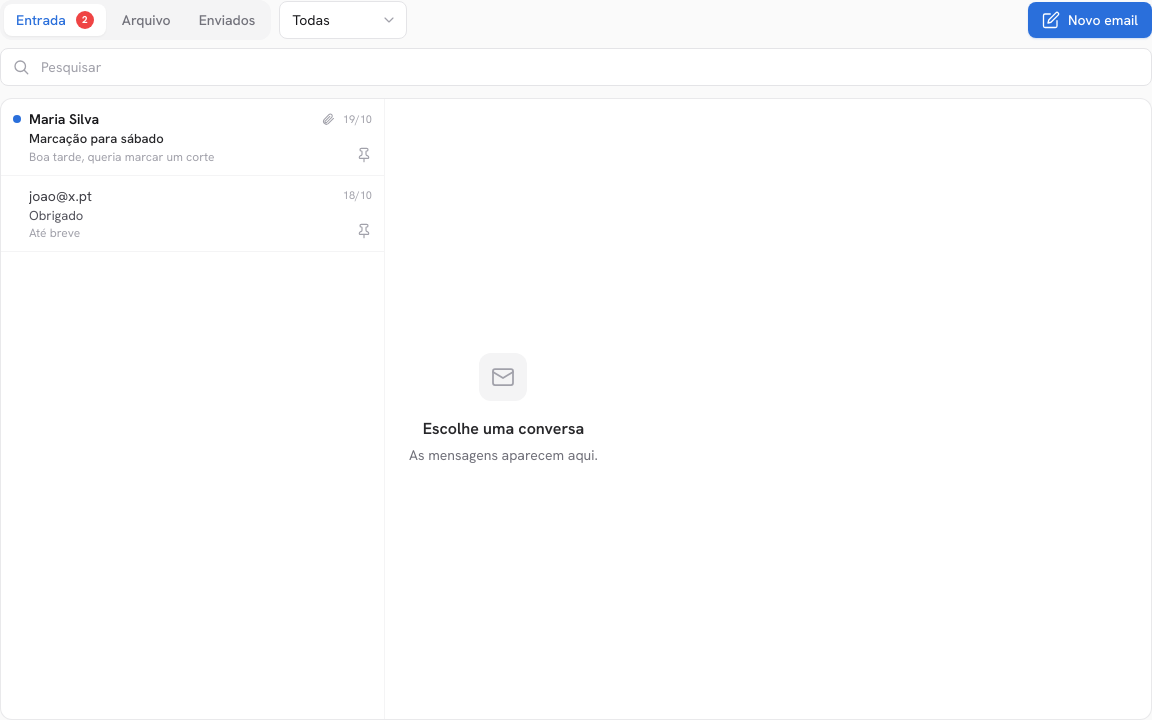
Test: Correio → Caixa — compositor › um endereço inválido bloqueia o envio
Click the button "Novo email". click: {"x": 1090, "y": 20}
box: [1028,2,1151,38]
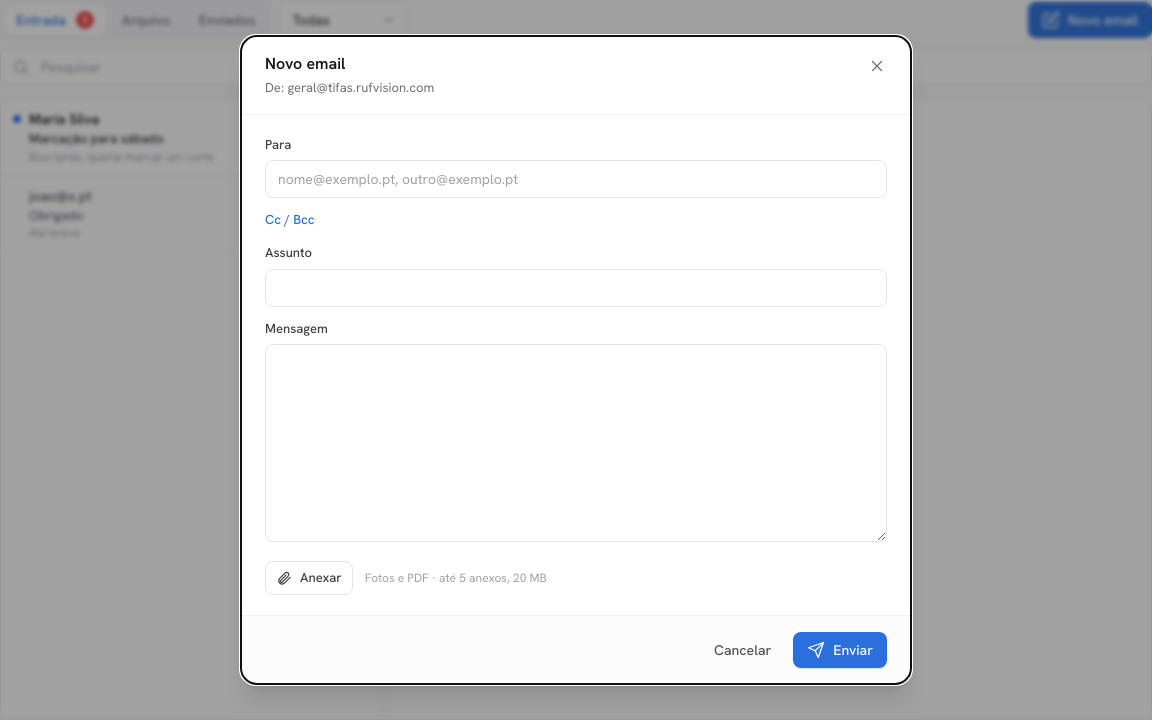
Type "isto-nao-e-email" into the field labelled "Para". click: {"x": 576, "y": 179}
box: [265,160,887,198]
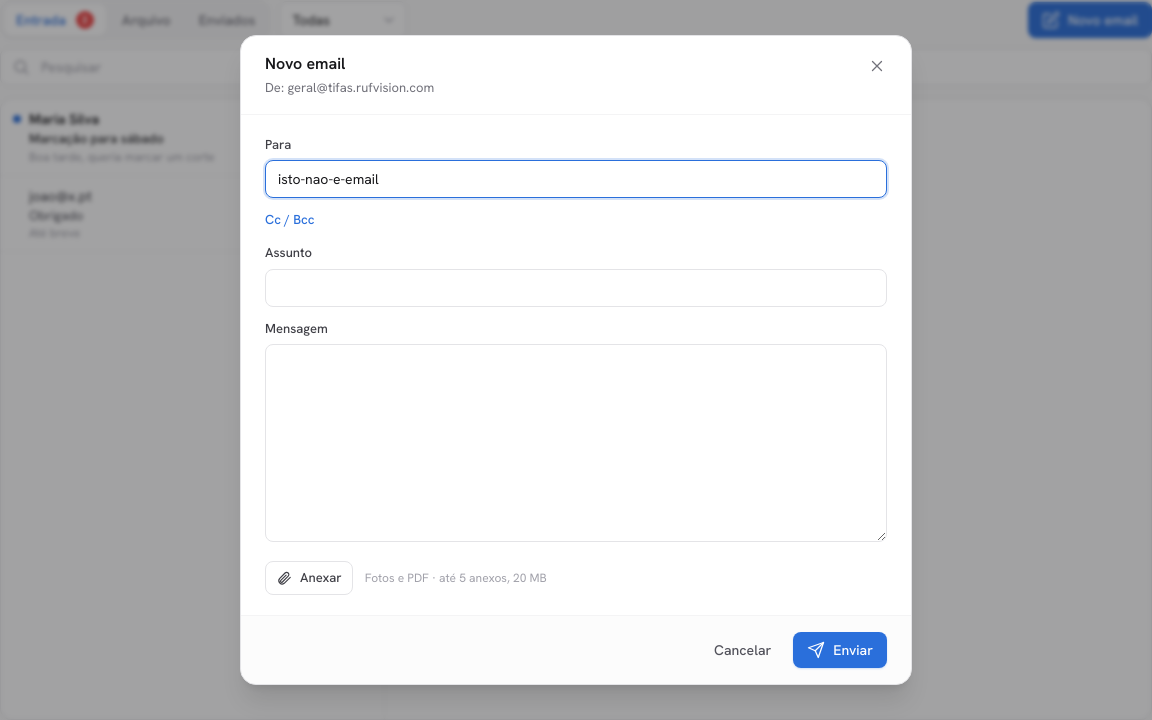
Type "Olá" into the text box labelled "Mensagem". click: {"x": 576, "y": 443}
box: [265,344,887,542]
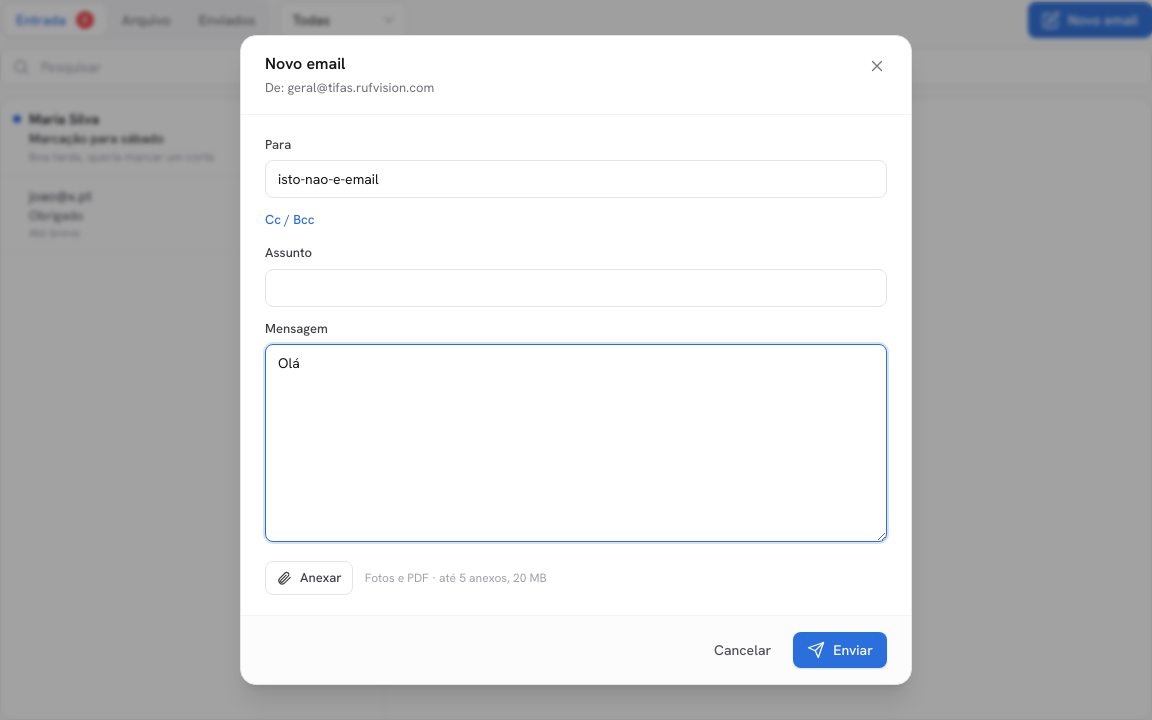
Click the button "Enviar". click: {"x": 840, "y": 650}
box: [793,632,887,668]
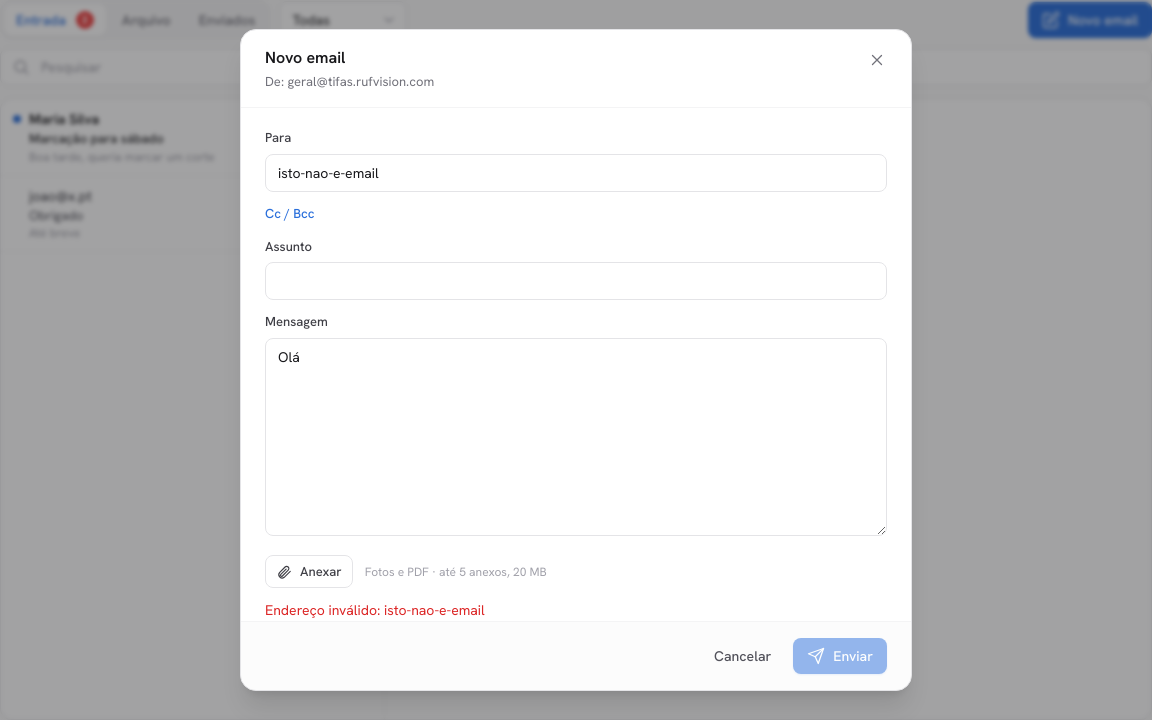
Check: the message shows "Endereço inválido", box [265,601,485,619]
